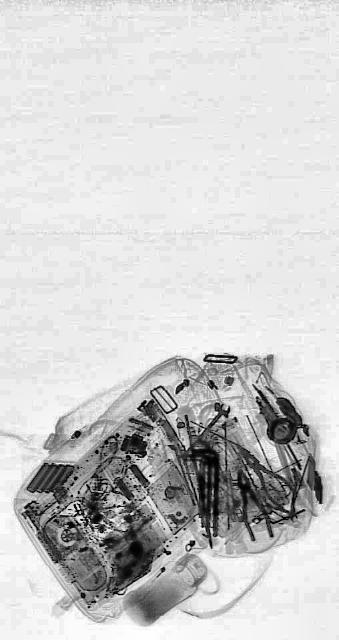Pliers: (238, 437, 294, 517), (228, 458, 274, 552)
Wrench: (180, 398, 229, 460)
